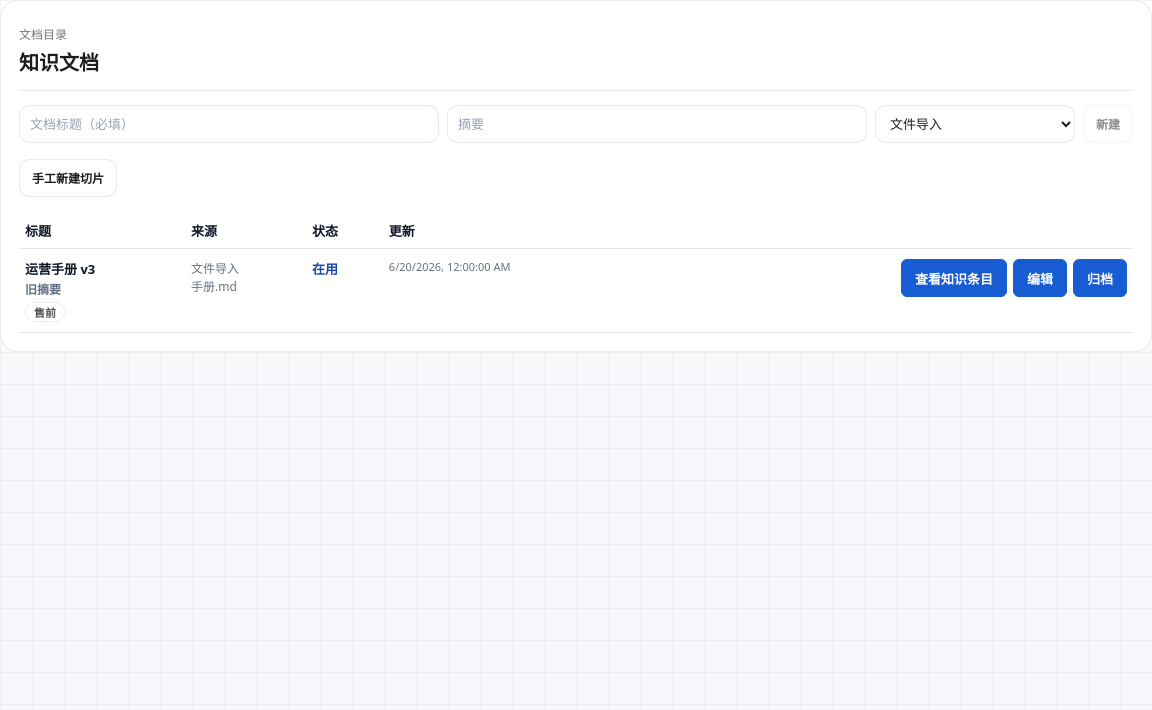
DocumentsView — E6 文档元数据编辑（version CAS） › closes an unchanged edit without issuing a PATCH
Expected: the text "运营手册 v3" is shown, [25,260,95,278]
Click the button "编辑". click: (1040, 278)
box: [1013,259,1067,297]
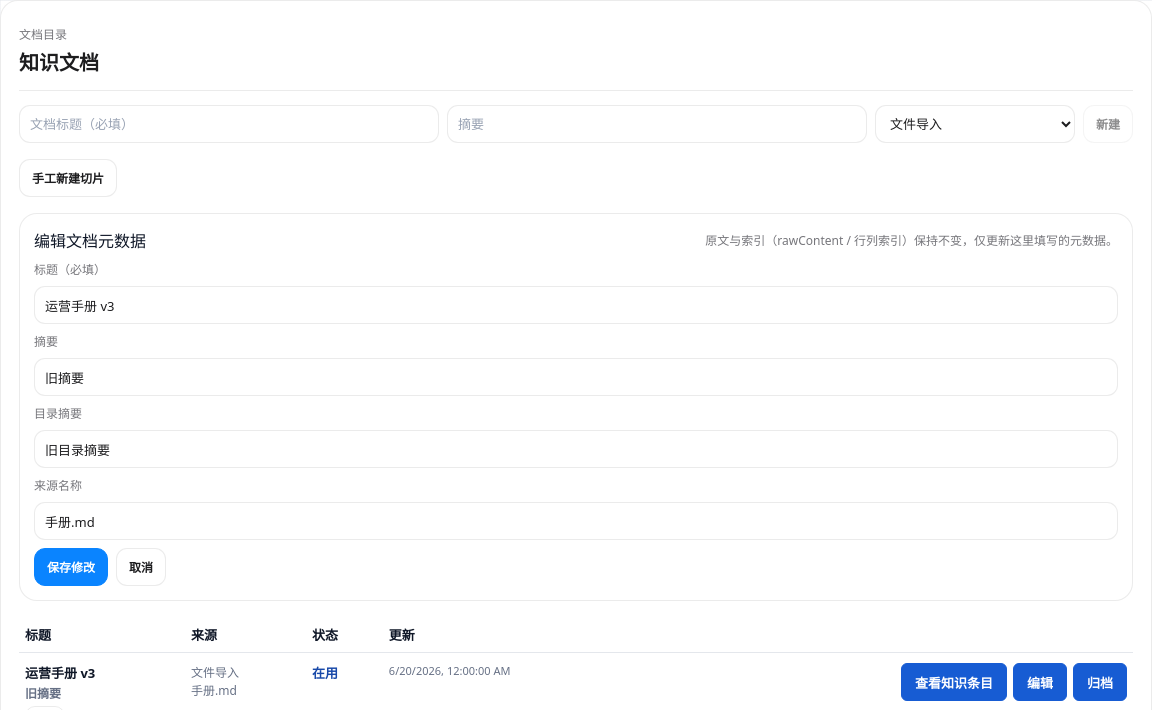
Click the button "保存修改". click: (71, 567)
box: [34,548,108,586]
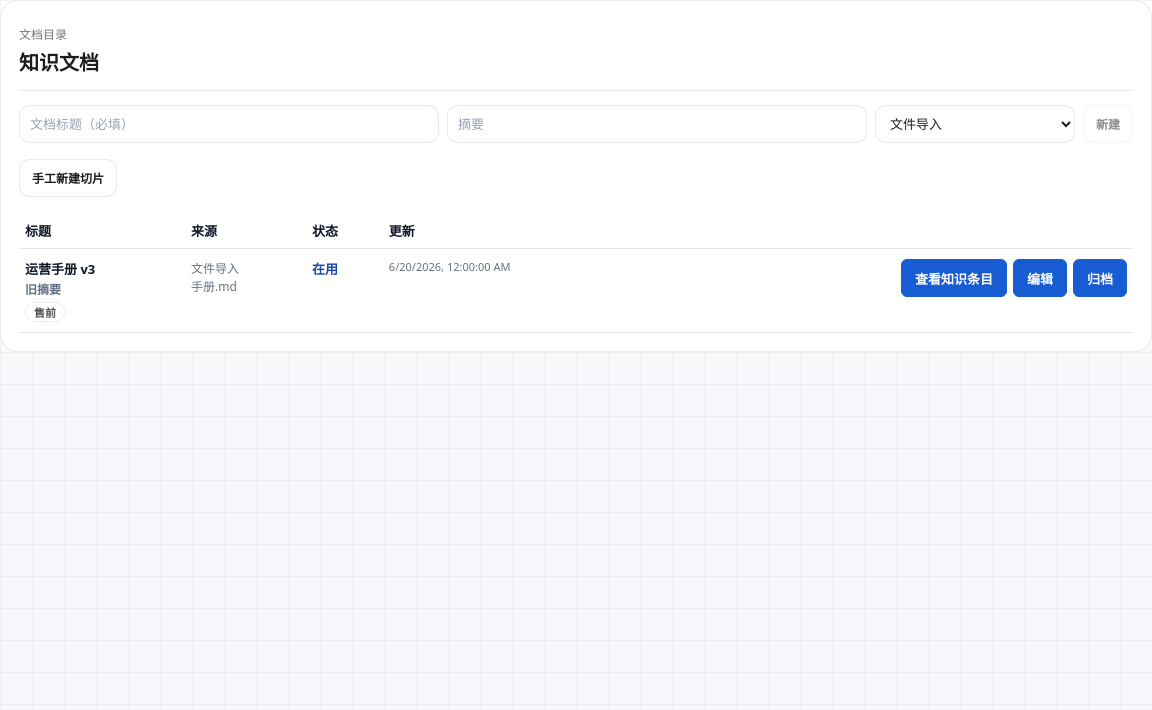
Expected: the button "保存修改" is gone
